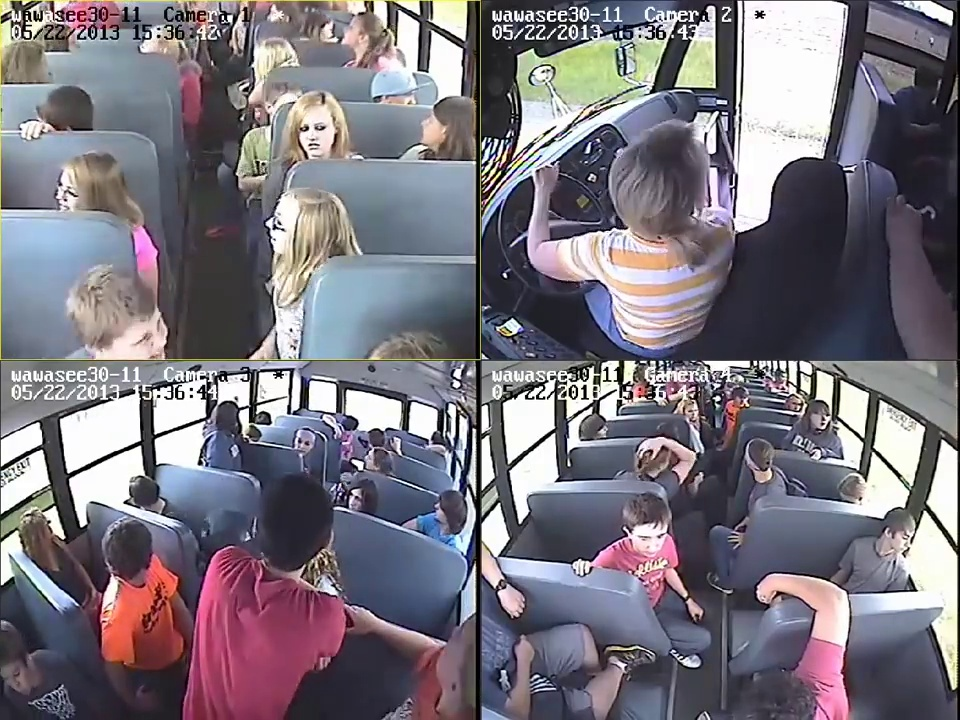face: (296, 103, 339, 156), (262, 204, 291, 257), (418, 115, 455, 155), (55, 167, 88, 210), (341, 12, 373, 53), (632, 523, 665, 555), (431, 499, 456, 530), (345, 490, 369, 513), (895, 526, 913, 554), (812, 405, 831, 431), (295, 427, 312, 456), (681, 402, 701, 420), (786, 395, 802, 410)
